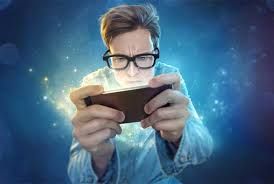playing: (66, 17, 191, 141)
